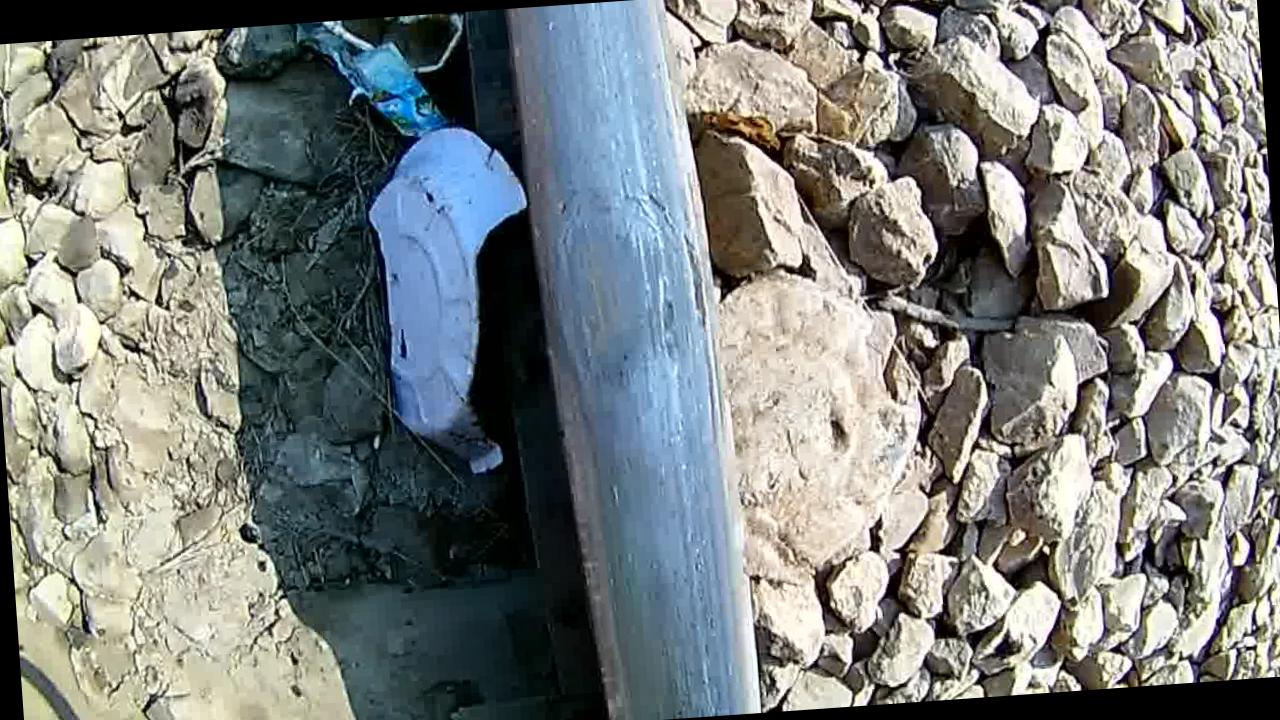bolt_missing: (520, 163, 746, 447)
